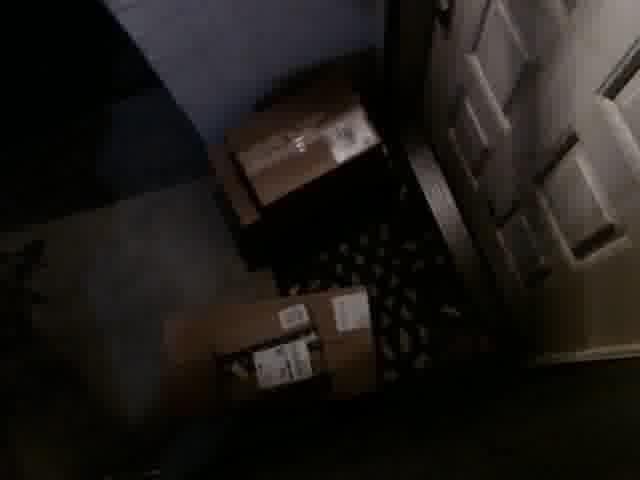box: (201, 69, 386, 269), (157, 276, 380, 435), (218, 78, 384, 207), (193, 298, 327, 401)
